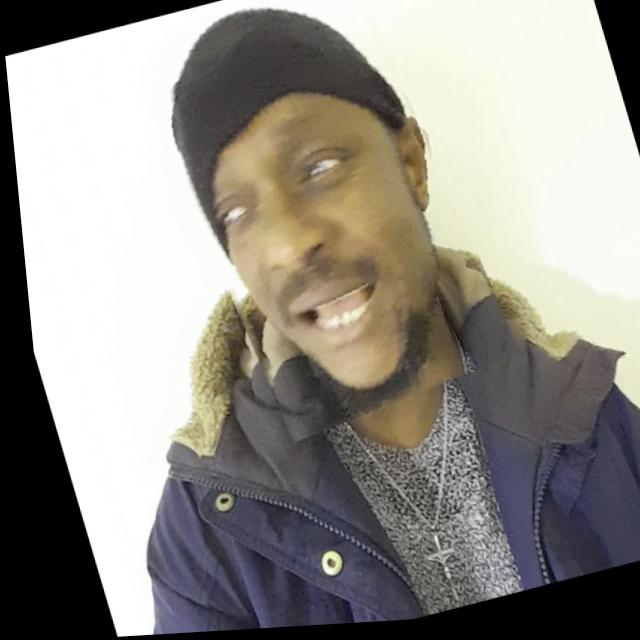happy: (127, 0, 511, 451)
